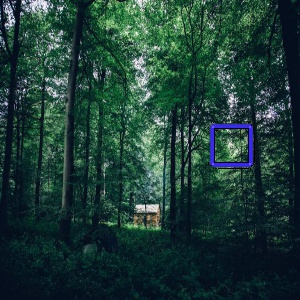square: (209, 122, 255, 169)
